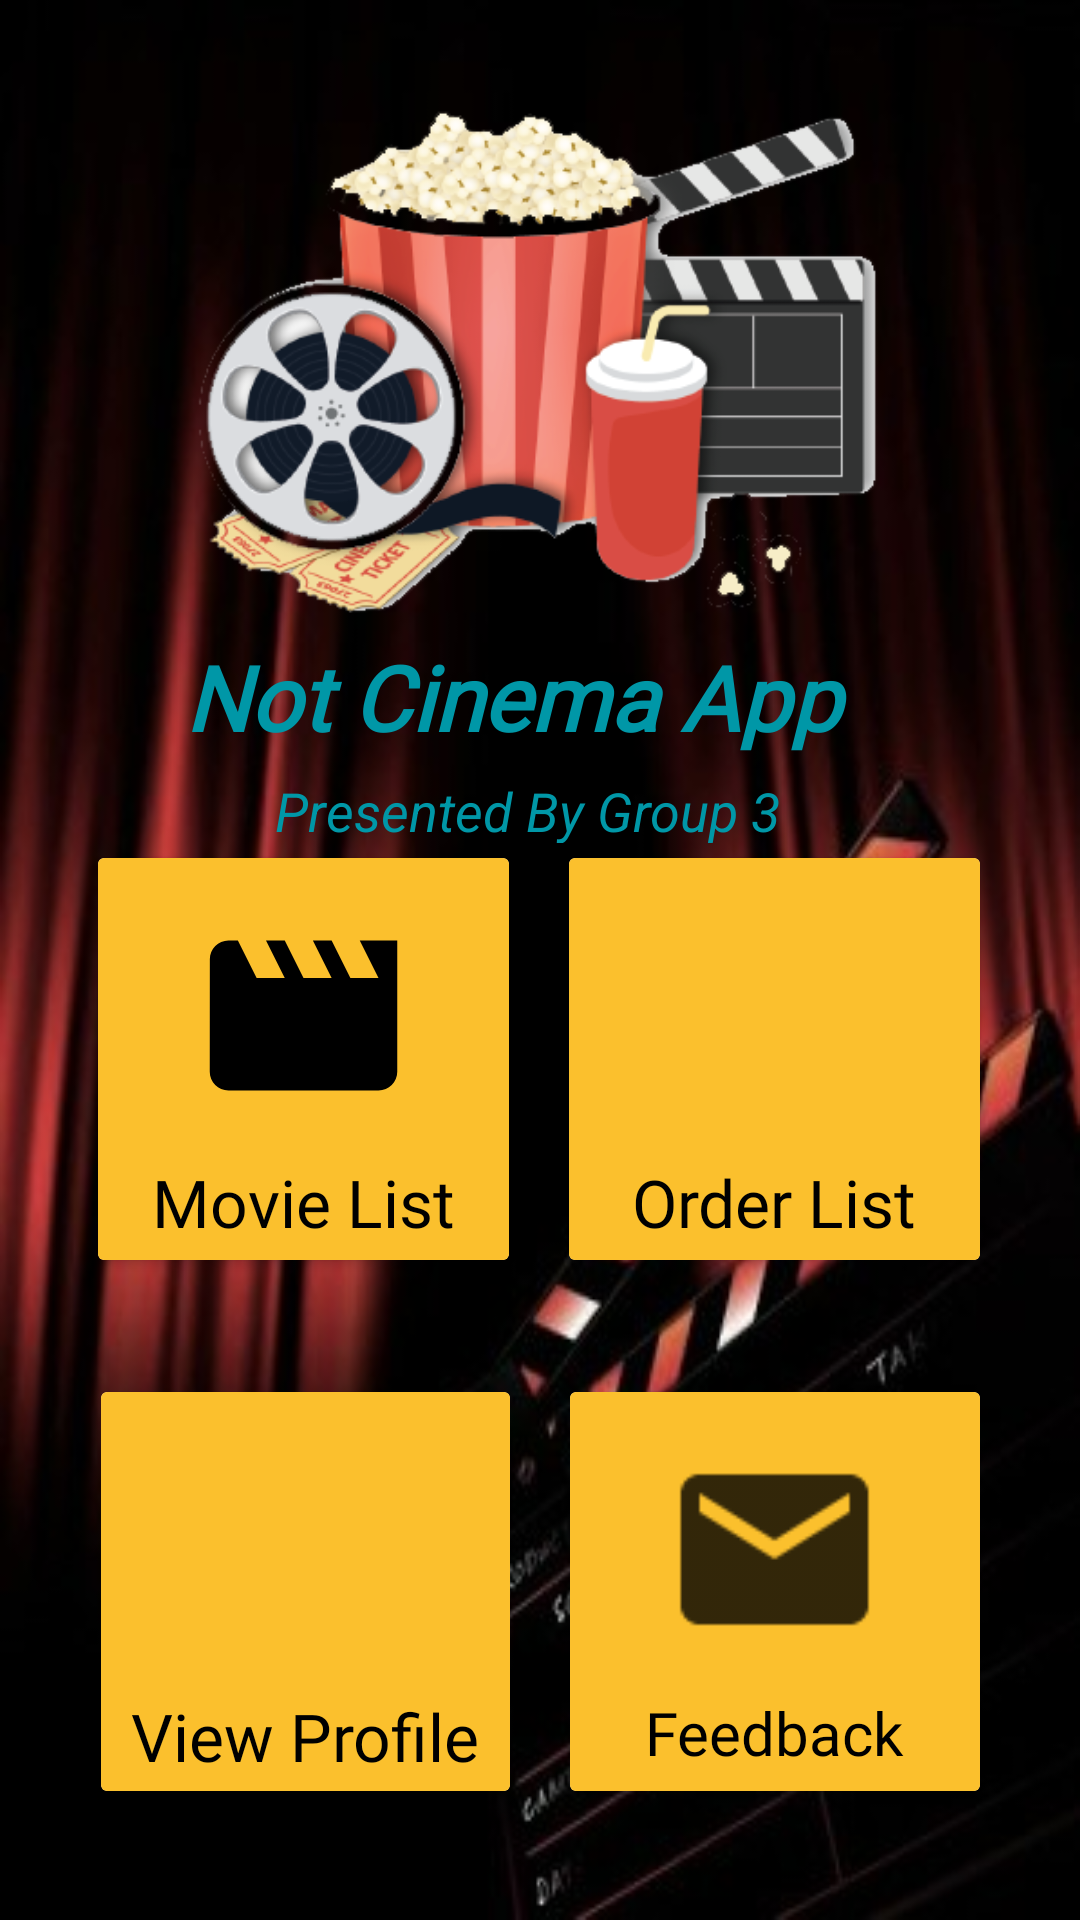

Screen size 1080 × 1920. Icon name, then its center in pixels as (x=x, y=y):
email: (x=774, y=1549)
